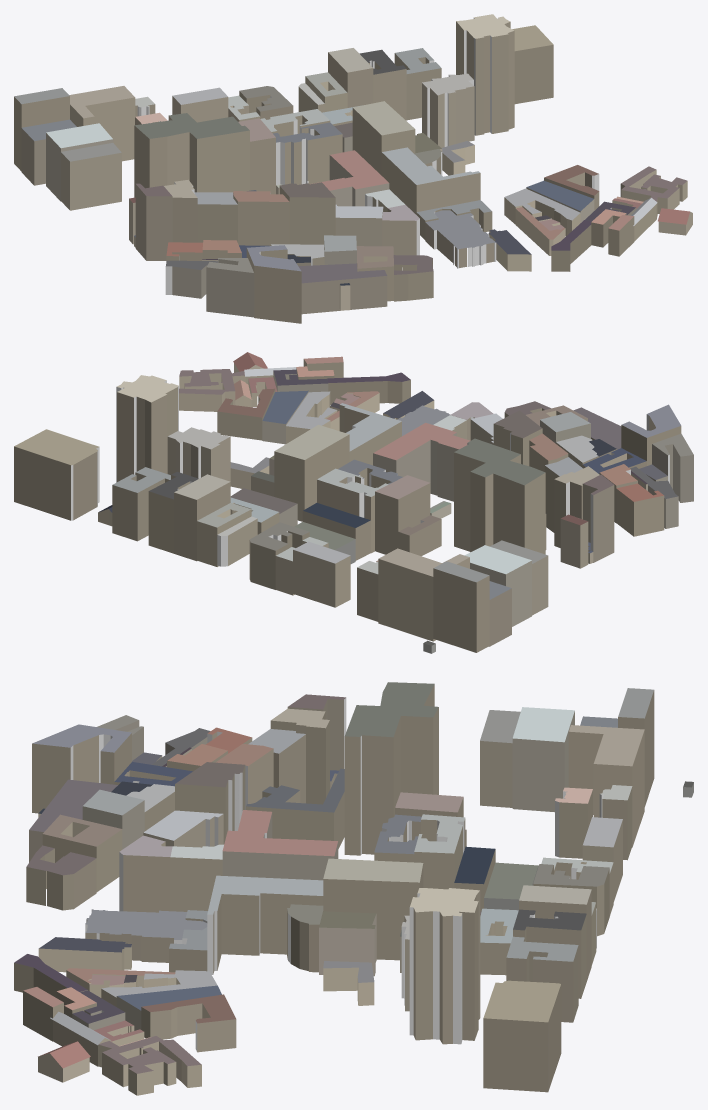
3 renders of one model, top to bottom at view 1: azimuth 30°, elevation 25°; view 2: azimuth 150°, elevation 25°; view 3: azimuth 270°, elevation 25°, orthographic. The views are drawn at different scales.
Parts seen in each view (by area): view 1: tuile; view 2: tuile; view 3: tuile.
Part boxes in pixels (x1,y1,x2,y2): tuile: (14, 14, 692, 323); tuile: (14, 352, 693, 653); tuile: (14, 682, 693, 1095).
Bounding box in the file's own units: 260 × 53.02 × 231.
